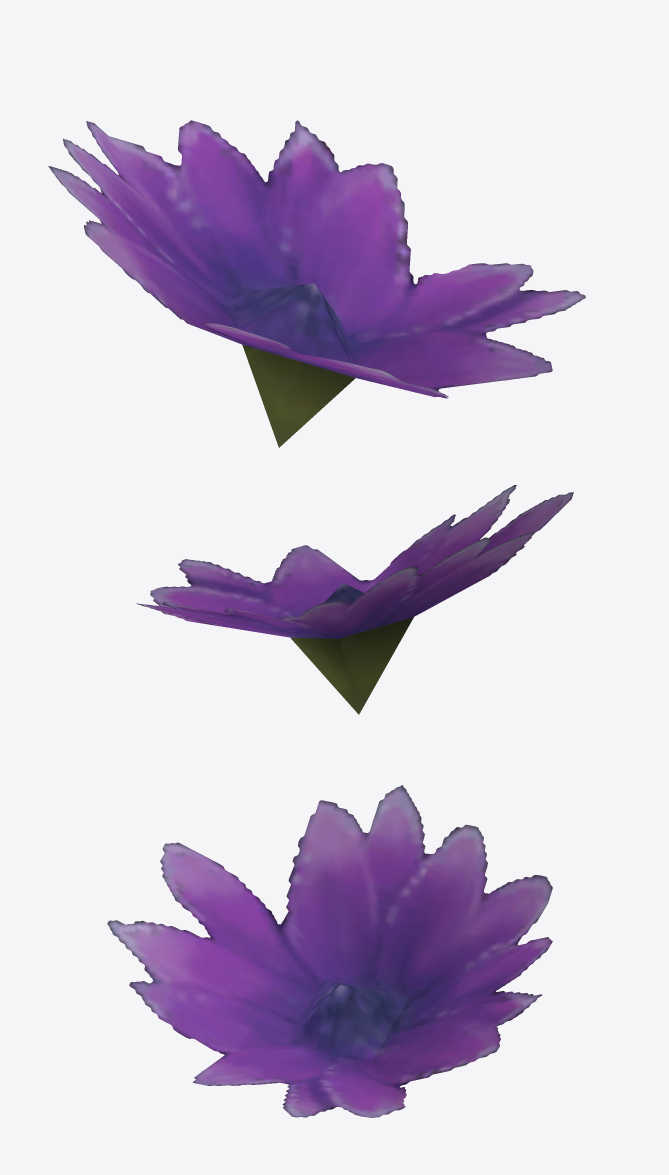
The model's file is grizzlyhills_blurpleflower02.obj.
3 renders of one model, top to bottom at view 1: azimuth 30°, elevation 25°; view 2: azimuth 150°, elevation 25°; view 3: azimuth 270°, elevation 25°, orthographic. The views are drawn at different scales.
Visible parts, largest first — view 1: grizzlyhills_blurpleflower02; view 2: grizzlyhills_blurpleflower02; view 3: grizzlyhills_blurpleflower02.
Boxes of the visible parts, x1,y1,x2,y2 form: grizzlyhills_blurpleflower02: (48,120,585,447); grizzlyhills_blurpleflower02: (136,485,573,714); grizzlyhills_blurpleflower02: (107,785,552,1117).
Size of the model in its own units: 0.8466 by 0.3633 by 0.866.
Materials: 1 (1 with a texture image).
